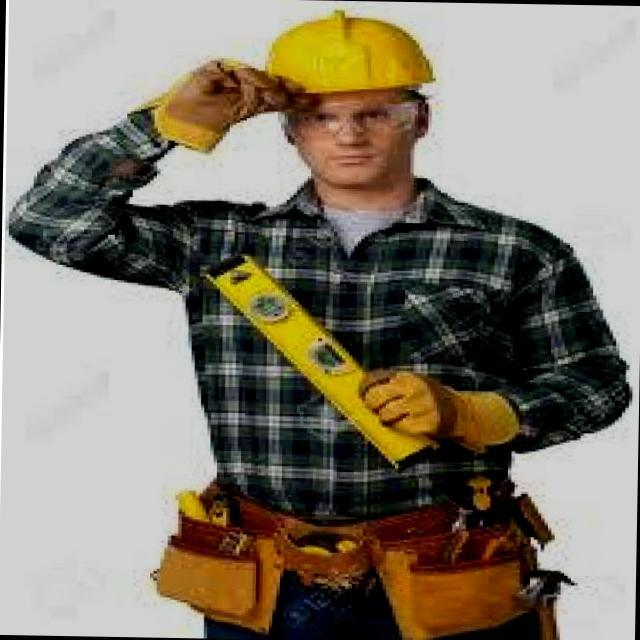Gloves: (345, 354, 529, 468), (143, 49, 298, 158)
Helmet: (264, 5, 433, 94)
Person: (0, 2, 638, 640)
no-vest: (3, 98, 638, 523)
